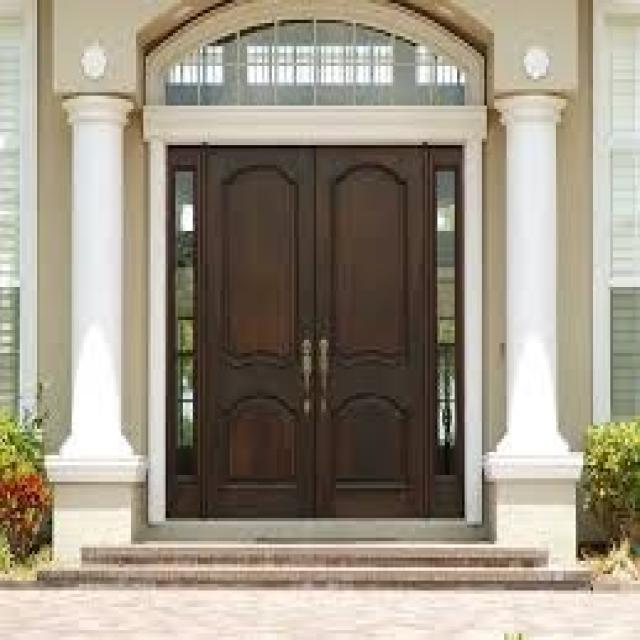door: (192, 143, 434, 520)
